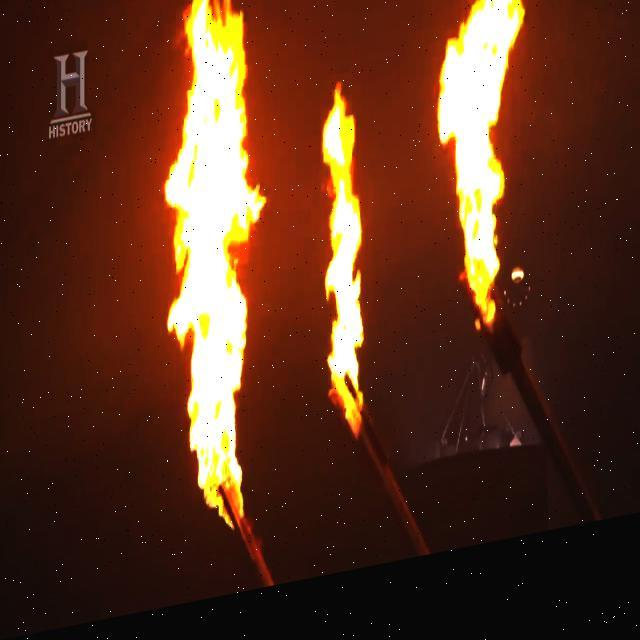Fire: (168, 0, 258, 498), (448, 0, 526, 343), (314, 103, 366, 430)
